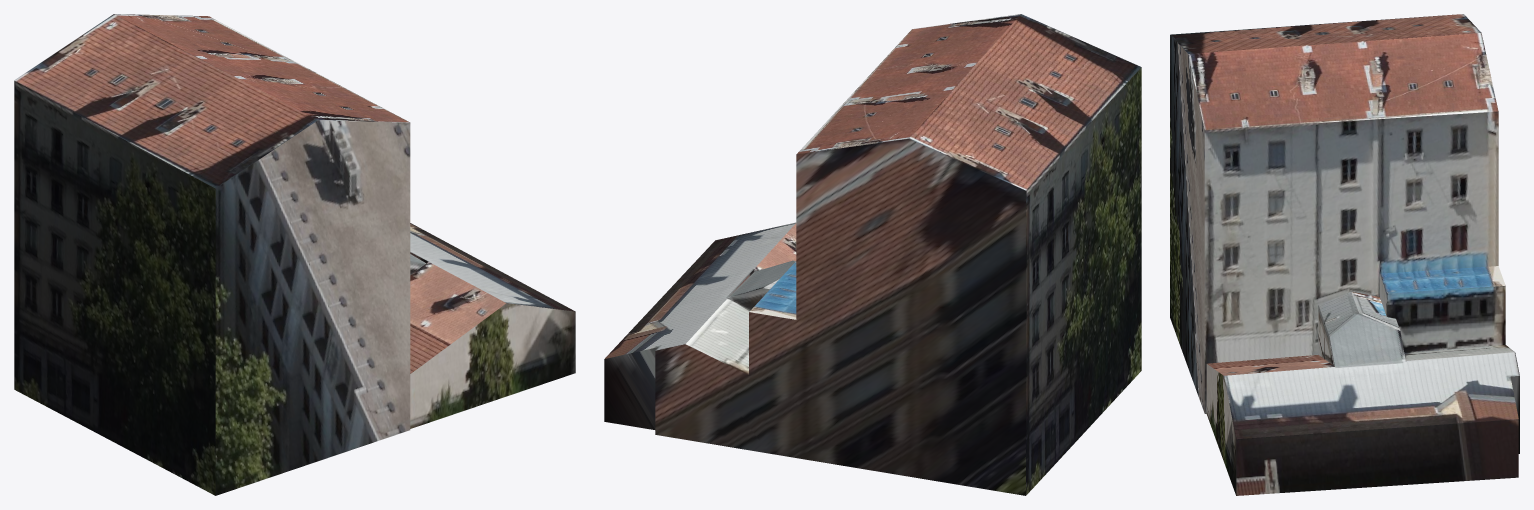
3 renders of one model, left to right at view 1: azimuth 30°, elevation 25°; view 2: azimuth 150°, elevation 25°; view 3: azimuth 270°, elevation 25°, orthographic. The views are drawn at different scales.
Visible parts, largest first — view 1: Z_UP; view 2: Z_UP; view 3: Z_UP.
Part boxes in pixels (x1,y1,x2,y2): Z_UP: [14, 14, 575, 495]; Z_UP: [604, 14, 1141, 495]; Z_UP: [1170, 14, 1519, 495].
Size of the model in its own units: 30.55 by 22.79 by 22.92.
Materials: 2 (1 with a texture image).
